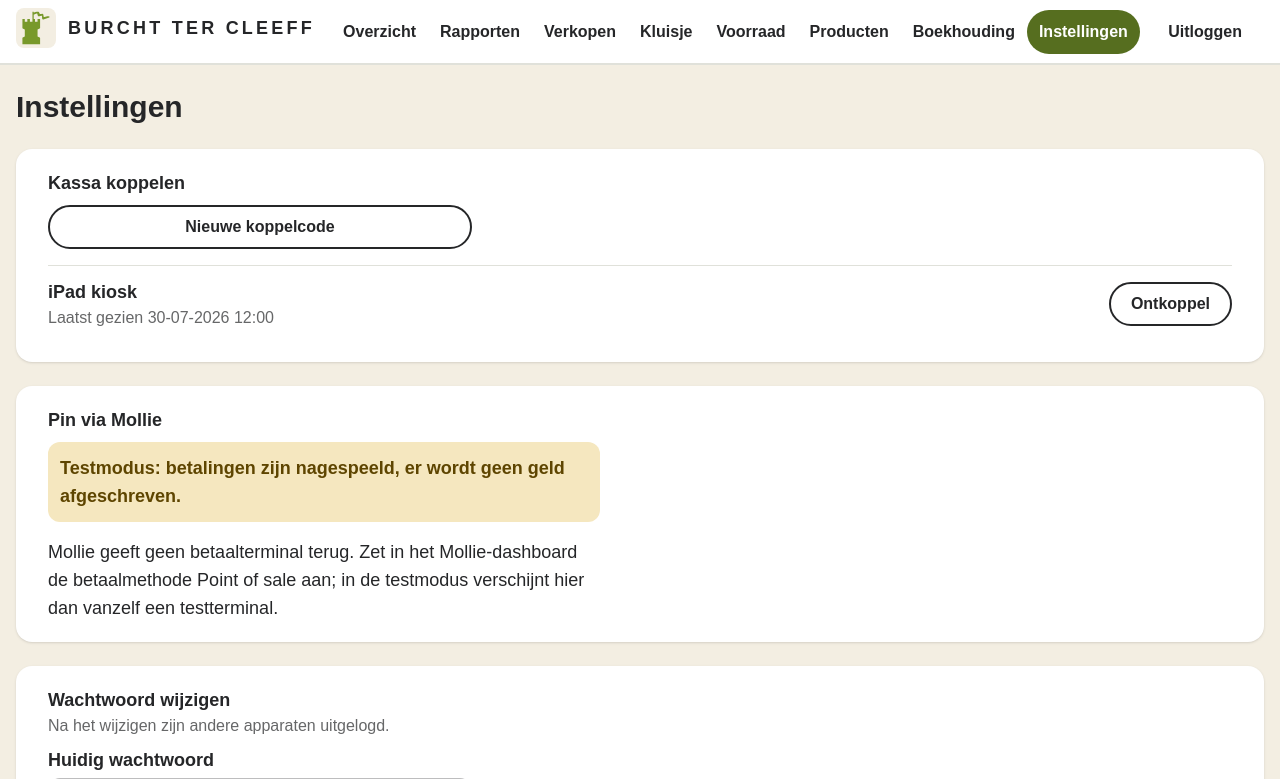
Test: shows a new pairing code
The width and height of the screenshot is (1280, 779).
Expected: the text "iPad kiosk" is shown, [48,278,137,306]
Expected: the heading "Instellingen" is shown, [16,90,183,123]
Click the button "Nieuwe koppelcode": (260, 227) [48,205,472,249]
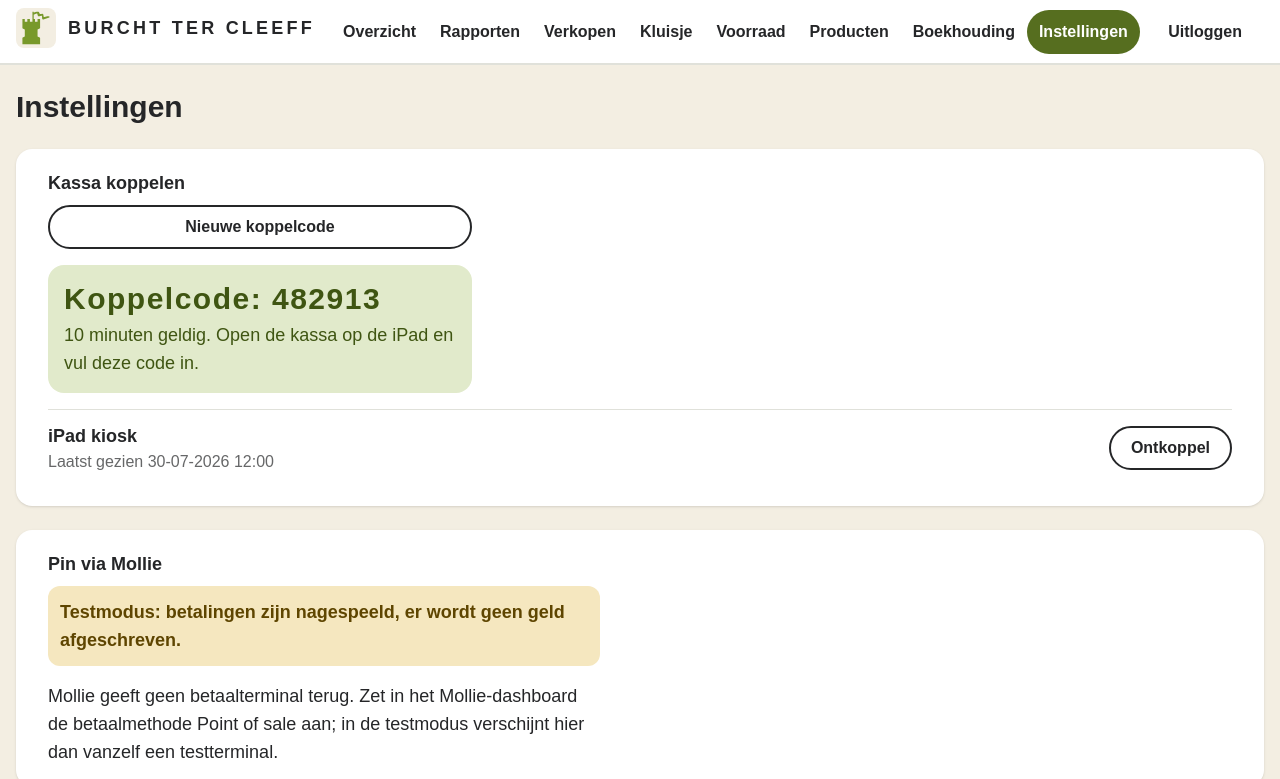
Now the text "Koppelcode: 482913" is shown, box [64,282,381,315]
Now the text "10 minuten geldig. Open de kassa op de iPad en vul deze code in." is shown, box [64,321,456,377]
